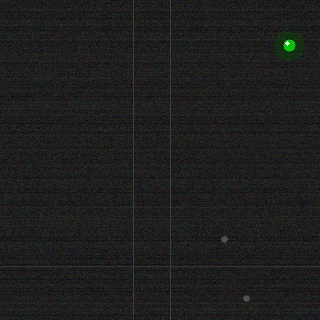green_normal: (281, 37, 297, 53)
